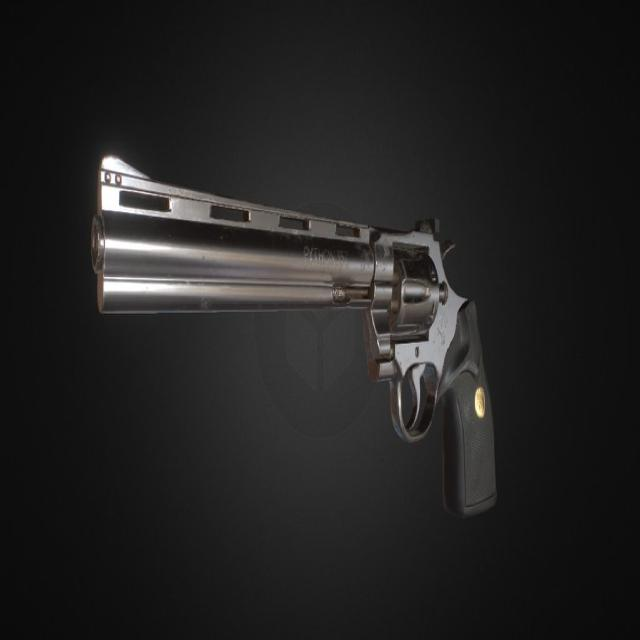handgun: (96, 152, 502, 532)
